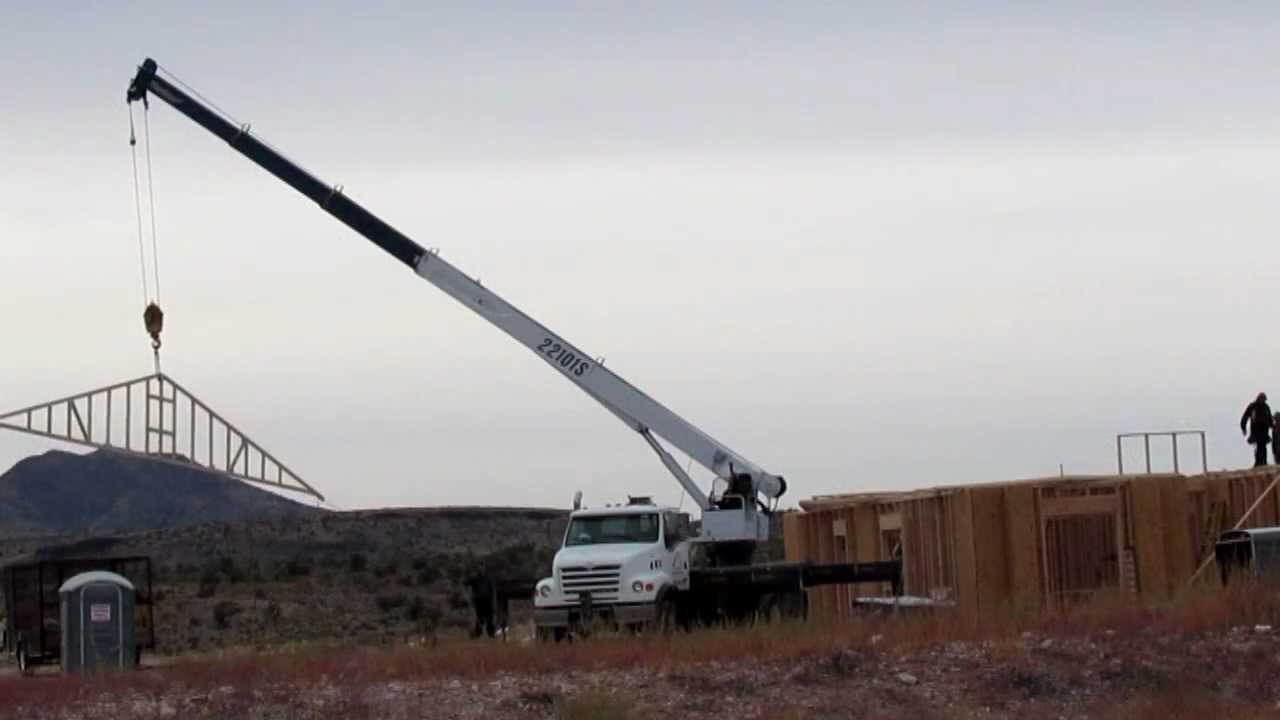crane: (123, 51, 812, 651)
